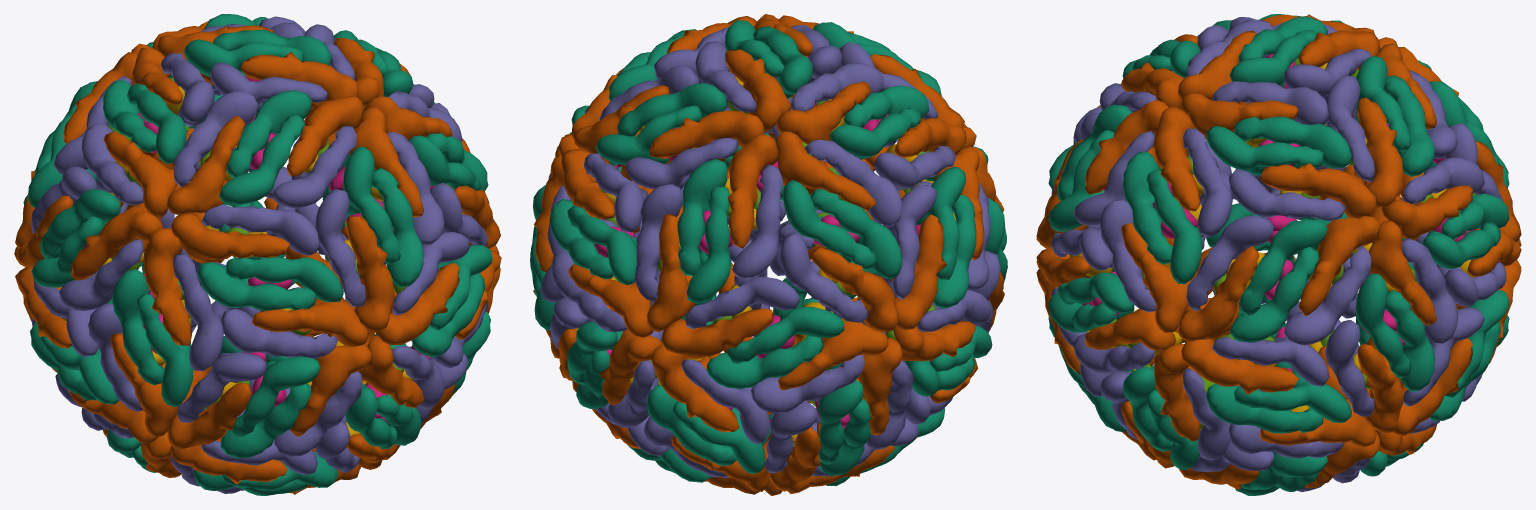
Rendered from 5IRE.glb.
The picture shows the model from 3 angles, left to right: view 1: azimuth 30°, elevation 25°; view 2: azimuth 150°, elevation 25°; view 3: azimuth 270°, elevation 25°; orthographic projection.
Bounding box in the file's own units: 460 × 459 × 462.
